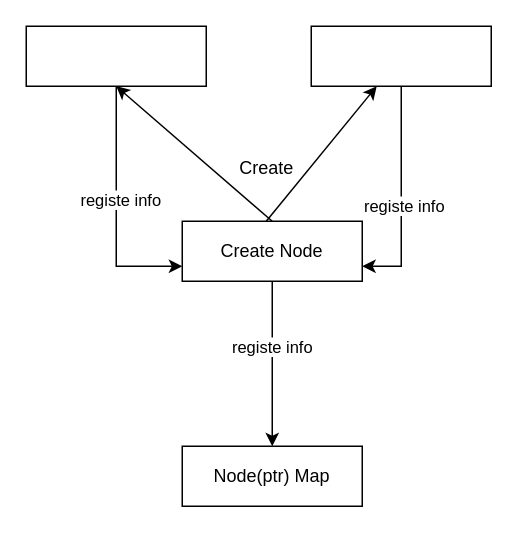
Image size: 518x533. Some labels were removed from this diagram. The shapes that lost their labels are listed below. From the top down, each one's centre as x and y in pixels, then its label:
the point at 115,55: Create Publisher
the point at 400,55: Create Subscriber
